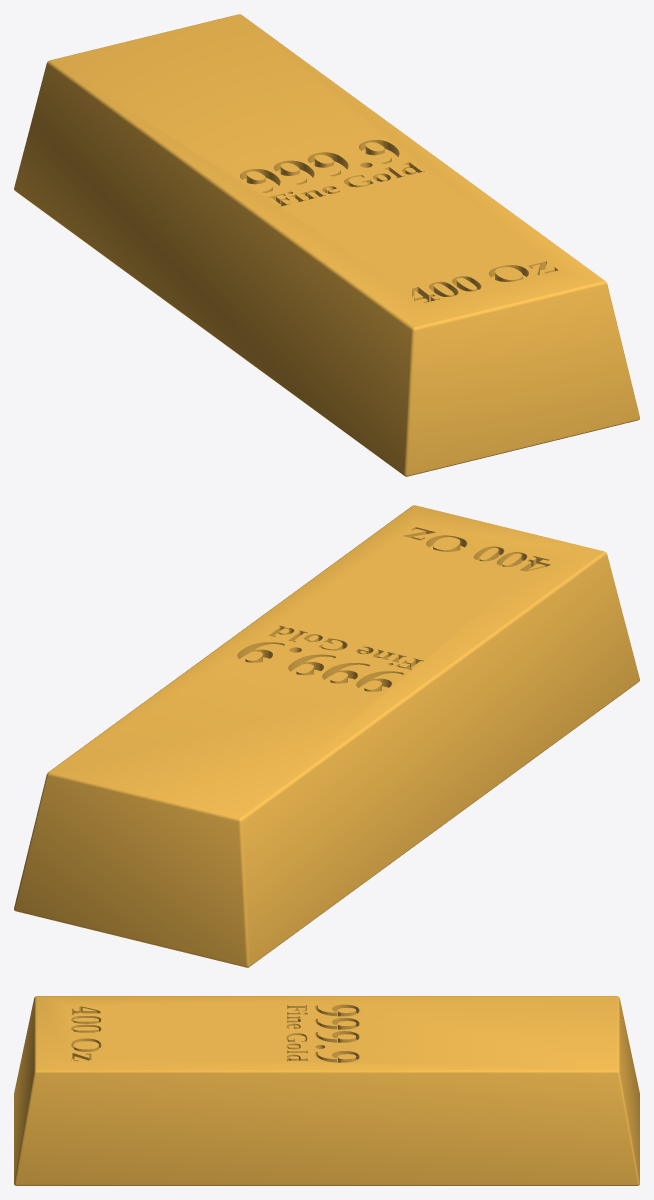
Rendered from gold.glb.
3 renders of one model, top to bottom at view 1: azimuth 30°, elevation 25°; view 2: azimuth 150°, elevation 25°; view 3: azimuth 270°, elevation 25°, orthographic. The views are drawn at different scales.
Visible parts, largest first — view 1: Gold Bar; view 2: Gold Bar; view 3: Gold Bar.
Part boxes in pixels (x1,y1,x2,y2): Gold Bar: (14,14,639,476); Gold Bar: (14,505,639,967); Gold Bar: (14,996,639,1185).
Size of the model in its own units: 0.0942 by 0.0515 by 0.2716.
